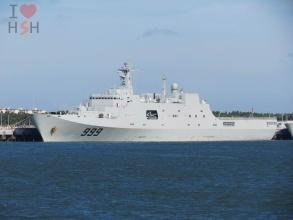warship: (26, 60, 282, 146)
